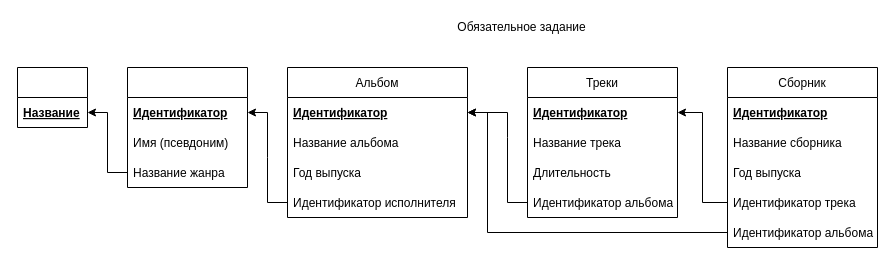
Some shapes in this 895 by 265 pixel diagram are drawn without their labels. The shapes that lost their labels are listed below. From the top down, each one's box as (x1, y1, x2, y2) in pixels, then its label:
(16, 66, 88, 128): Жанры
(126, 66, 248, 188): Исполнители
